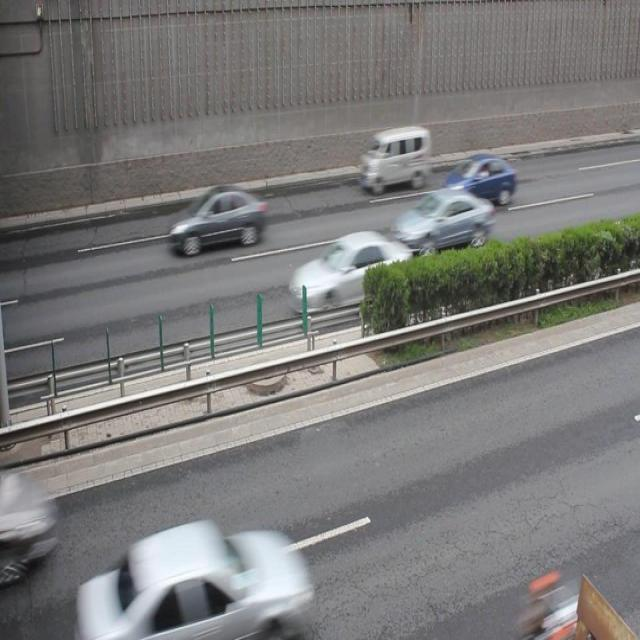car: (88, 519, 308, 640), (289, 232, 412, 314), (168, 184, 264, 254), (393, 190, 493, 253), (444, 154, 514, 206)
truck: (360, 124, 430, 194)
